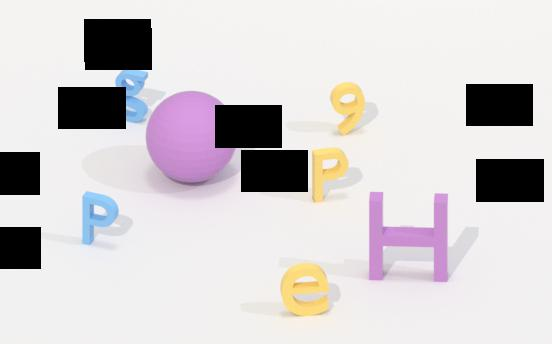9: (327, 81, 370, 137)
H-hoa: (366, 190, 454, 286)
cau: (141, 90, 244, 183)
e: (279, 263, 335, 318)
g: (112, 67, 154, 125)
p: (79, 188, 125, 248), (310, 144, 354, 206)
